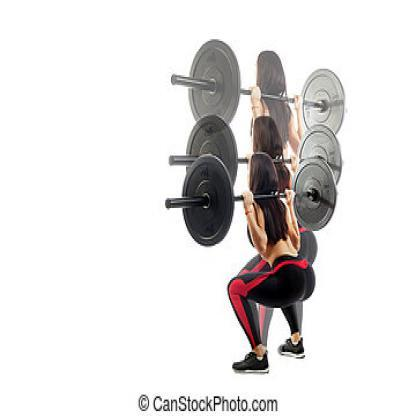Barbell: (170, 71, 181, 90), (164, 197, 175, 213), (168, 154, 178, 170)
